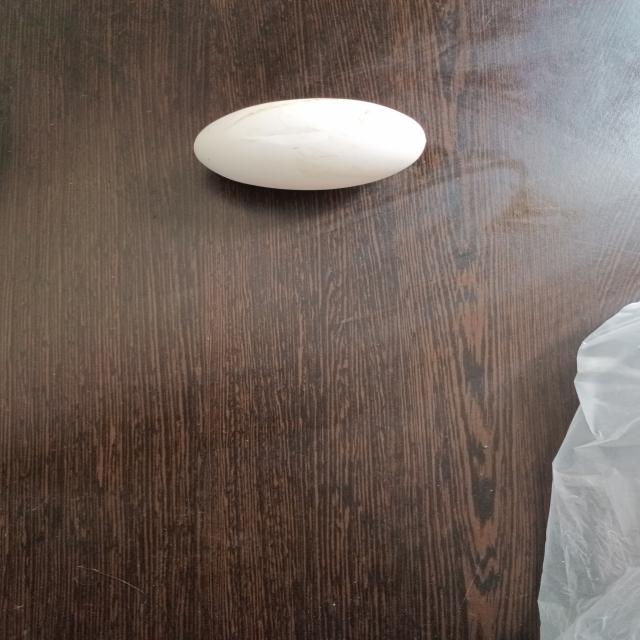biodegradable: (190, 96, 439, 196)
